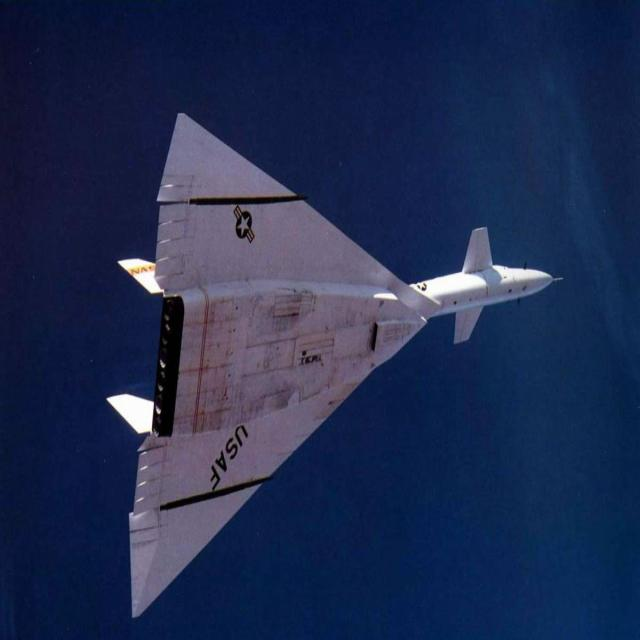MIL_Plane: (105, 112, 566, 620)
